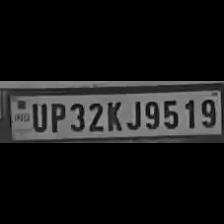1: (180, 96, 196, 128)
2: (86, 98, 104, 132)
3: (66, 99, 86, 131)
5: (159, 97, 179, 129)
9: (197, 96, 217, 128), (141, 97, 159, 129)
J: (124, 97, 142, 130)
K: (103, 98, 123, 132)
P: (48, 100, 66, 132)
U: (27, 100, 47, 132)
